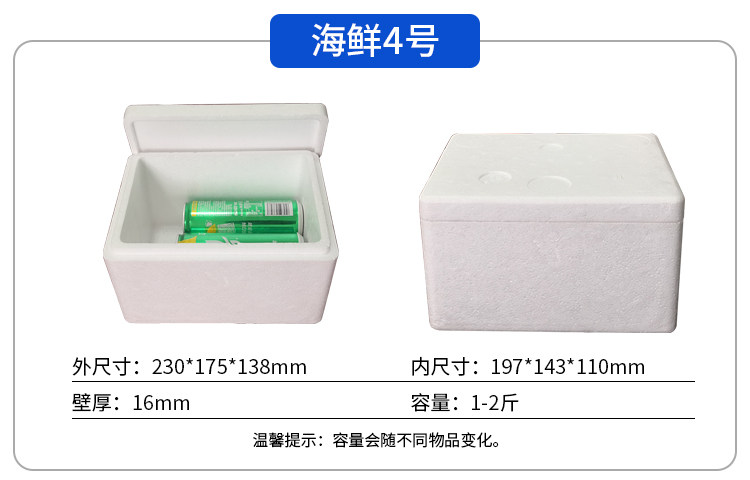Boxes: (419, 134, 684, 332), (103, 103, 338, 324)
